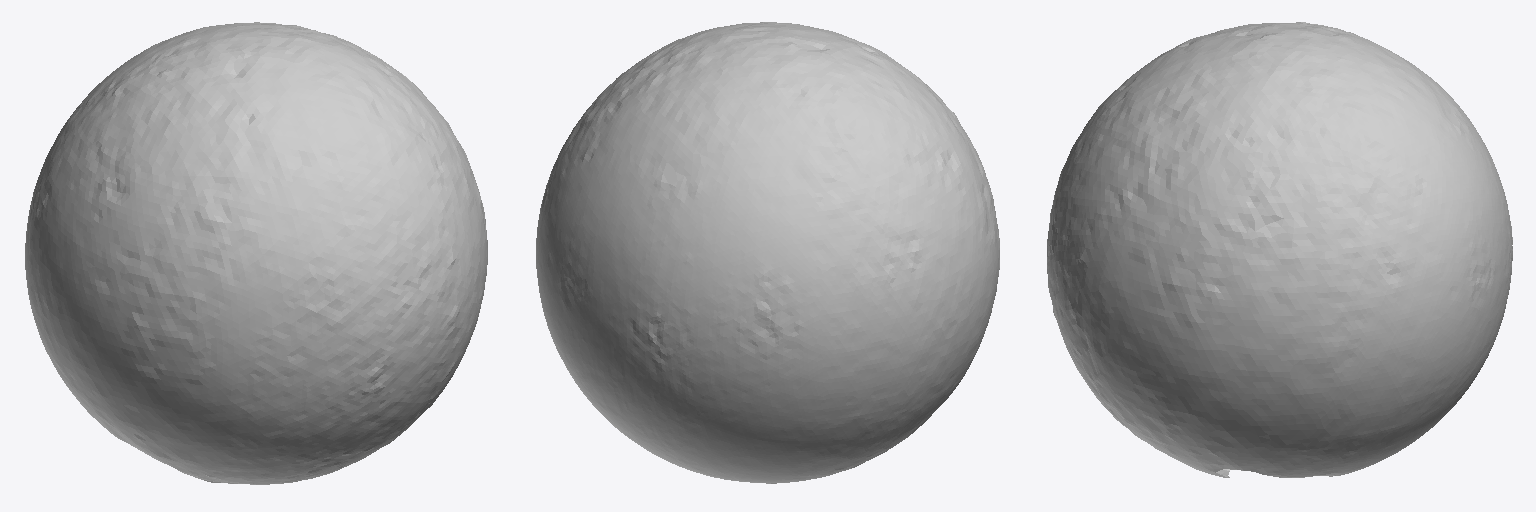
The model's file is Gridtest_2_0_1.000001.obj.
3 views of the same model, side by side, from view 1: azimuth 30°, elevation 25°; view 2: azimuth 150°, elevation 25°; view 3: azimuth 270°, elevation 25° (orthographic).
Size of the model in its own units: 297 by 302 by 301.